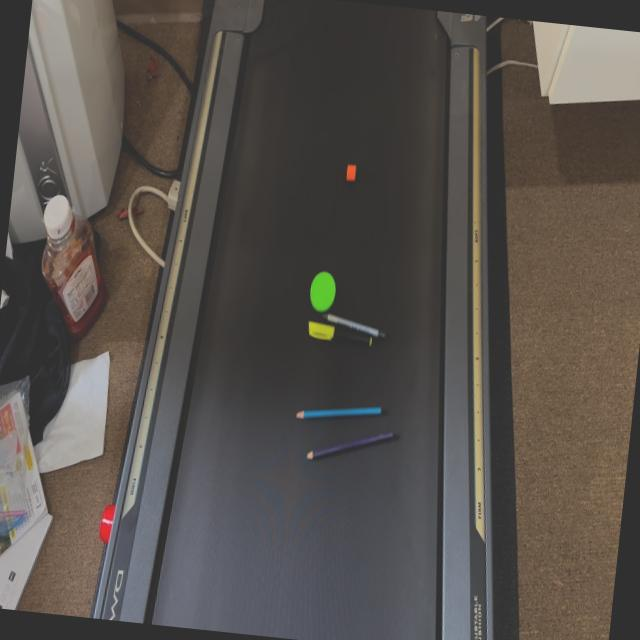Trash: (286, 385, 410, 480), (302, 262, 408, 366), (338, 154, 367, 189)
